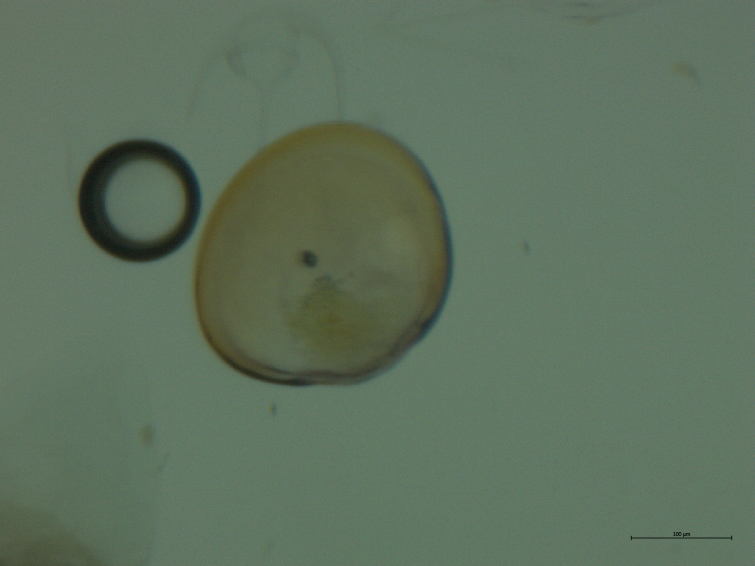oyster: (182, 115, 464, 395)
